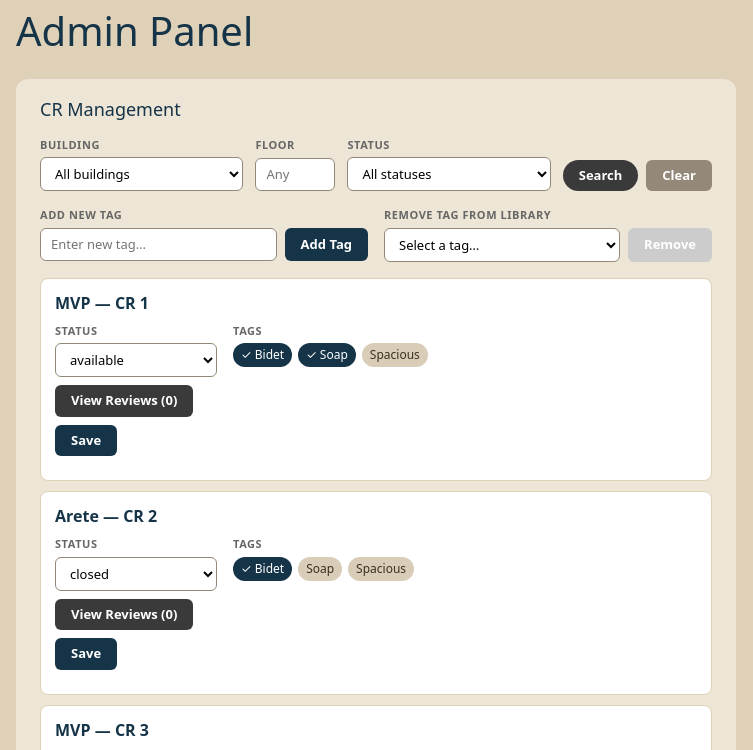
CR Management — filter bar › shows "No CRs match the filters." when no CRs match the active filters
This screenshot has width=753, height=750.
Expected: the text "MVP — CR 1" is shown, left=55, top=292, right=149, bottom=314
Type "99" into the number field with placeholder "Any".
click(295, 174); type("99")  # box left=255, top=158, right=335, bottom=191
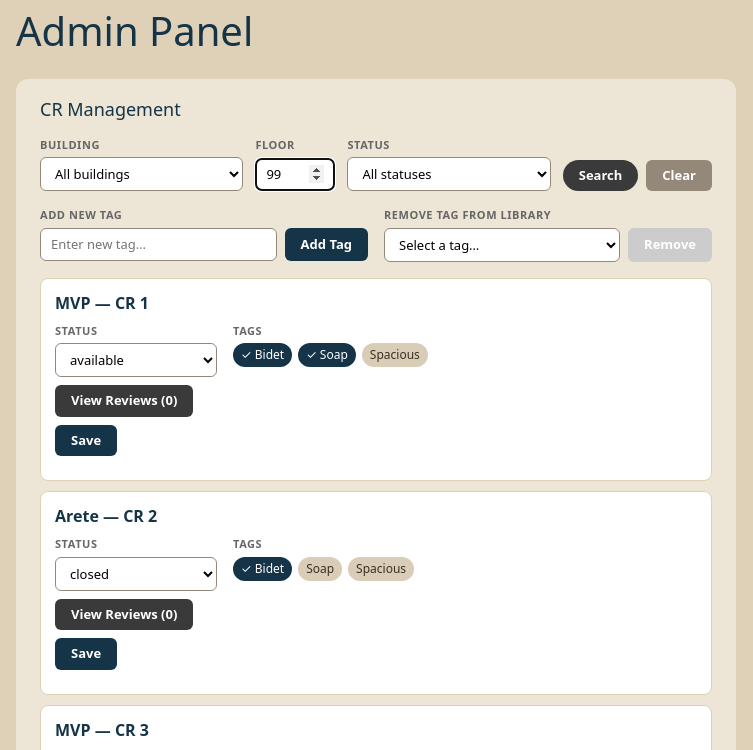
Click the button "Search".
click(601, 175)  # box left=563, top=160, right=638, bottom=191
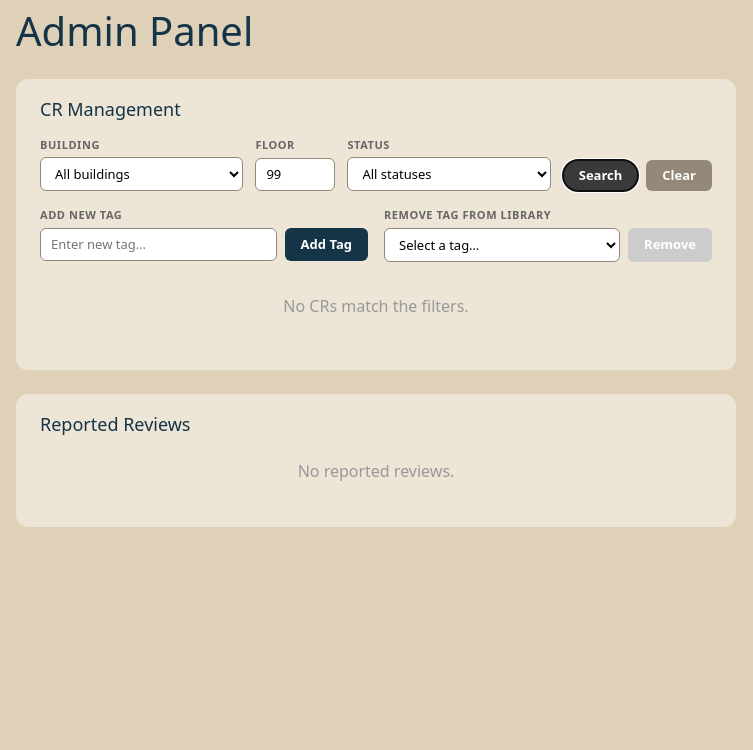
Now the text "No CRs match the filters." is shown, box left=283, top=295, right=469, bottom=317
